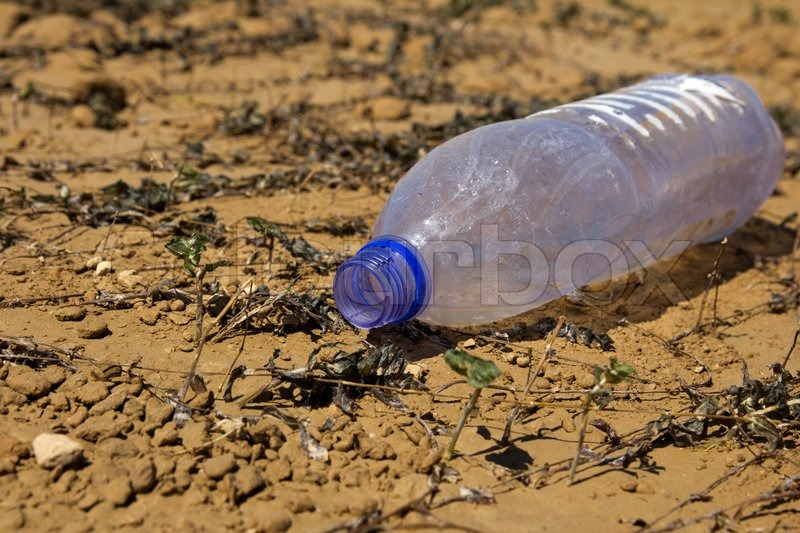bottle: (335, 72, 778, 326)
